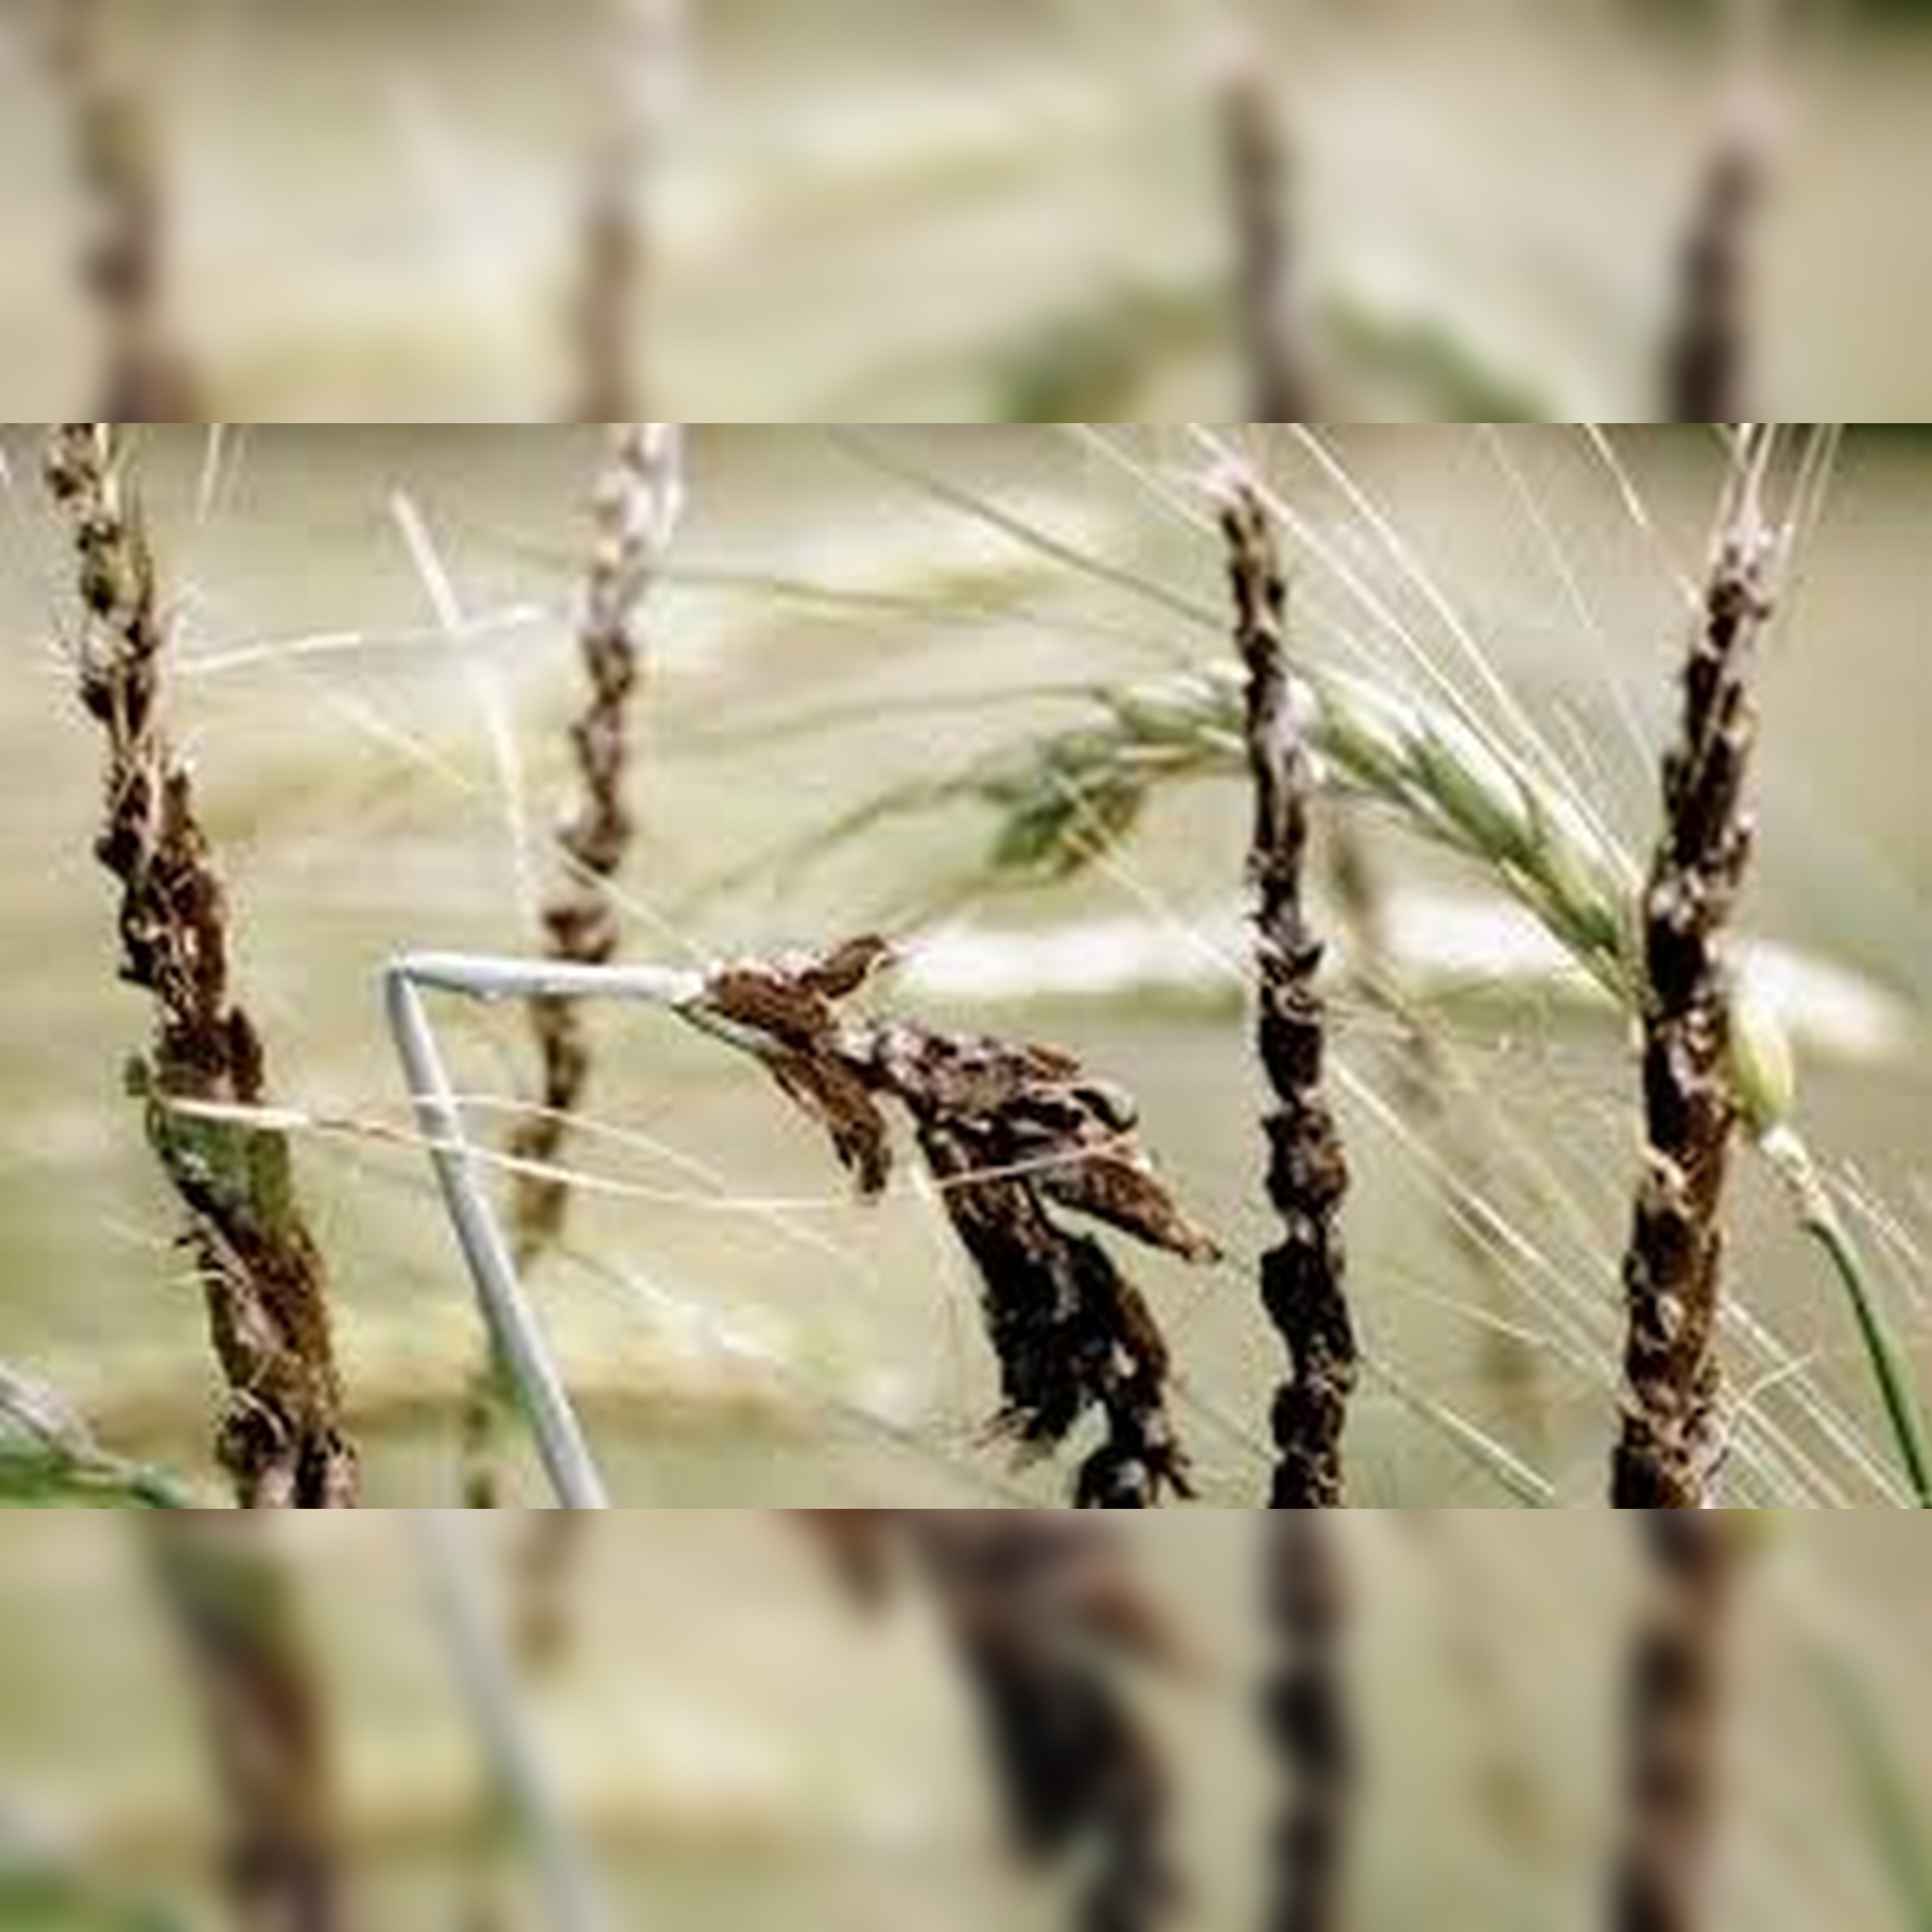Wheat Loose Smut: (766, 488, 1861, 1461), (23, 425, 338, 1476)
